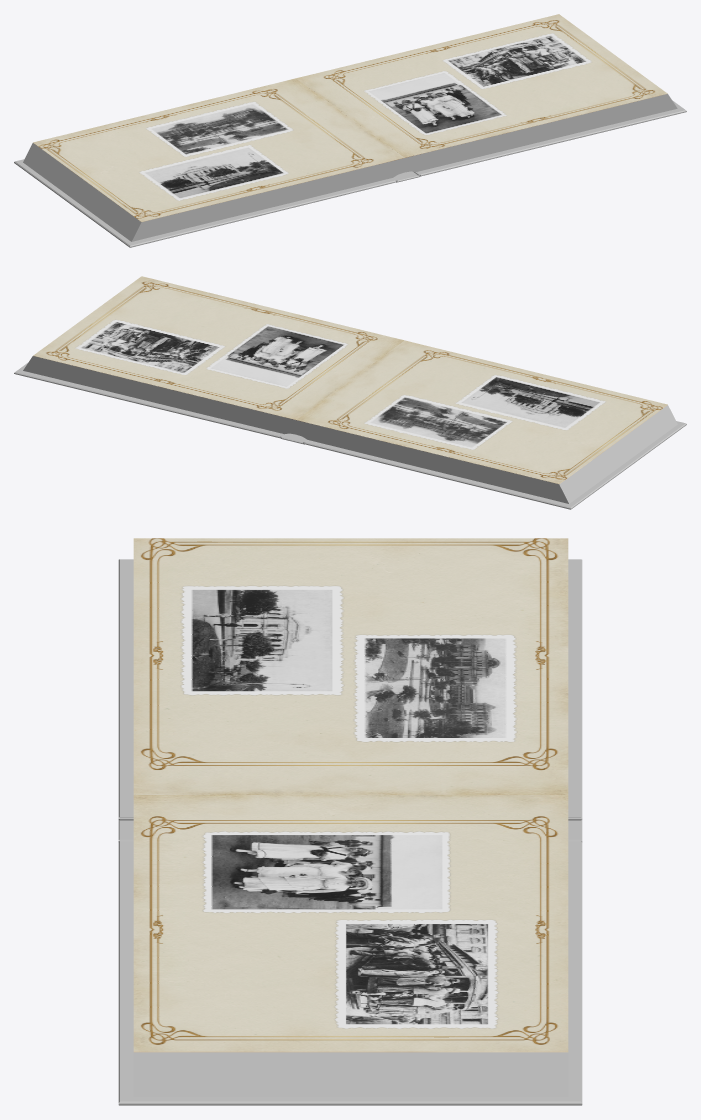
File: album_fotos_reto.fbx
3 views of the same model, one above another, from view 1: azimuth 30°, elevation 25°; view 2: azimuth 150°, elevation 25°; view 3: azimuth 270°, elevation 25° (orthographic). The views are drawn at different scales.
Visible parts, largest first — view 1: pag_virada, pag1, bloco2a, bloco2b1, capa1, capa2; view 2: pag_virada, pag1, bloco2a, bloco2b1, capa1, capa2; view 3: pag1, pag_virada, bloco2b1, capa2, capa1.
Part boxes in pixels (<box>): pag_virada: <box>33,78,404,222</box>; pag1: <box>296,14,667,157</box>; bloco2a: <box>23,143,404,241</box>; bloco2b1: <box>404,94,677,172</box>; capa1: <box>14,159,395,247</box>; capa2: <box>417,100,686,176</box>; pag_virada: <box>296,340,667,484</box>; pag1: <box>33,276,404,419</box>; bloco2a: <box>296,405,677,503</box>; bloco2b1: <box>23,356,295,434</box>; capa1: <box>305,421,686,509</box>; capa2: <box>14,363,282,438</box>; pag1: <box>133,795,568,1052</box>; pag_virada: <box>133,538,568,794</box>; bloco2b1: <box>133,1052,568,1096</box>; capa2: <box>118,841,582,1105</box>; capa1: <box>118,559,582,817</box>.
Size of the model in its own units: 45.75 by 1.56 by 16.5.
